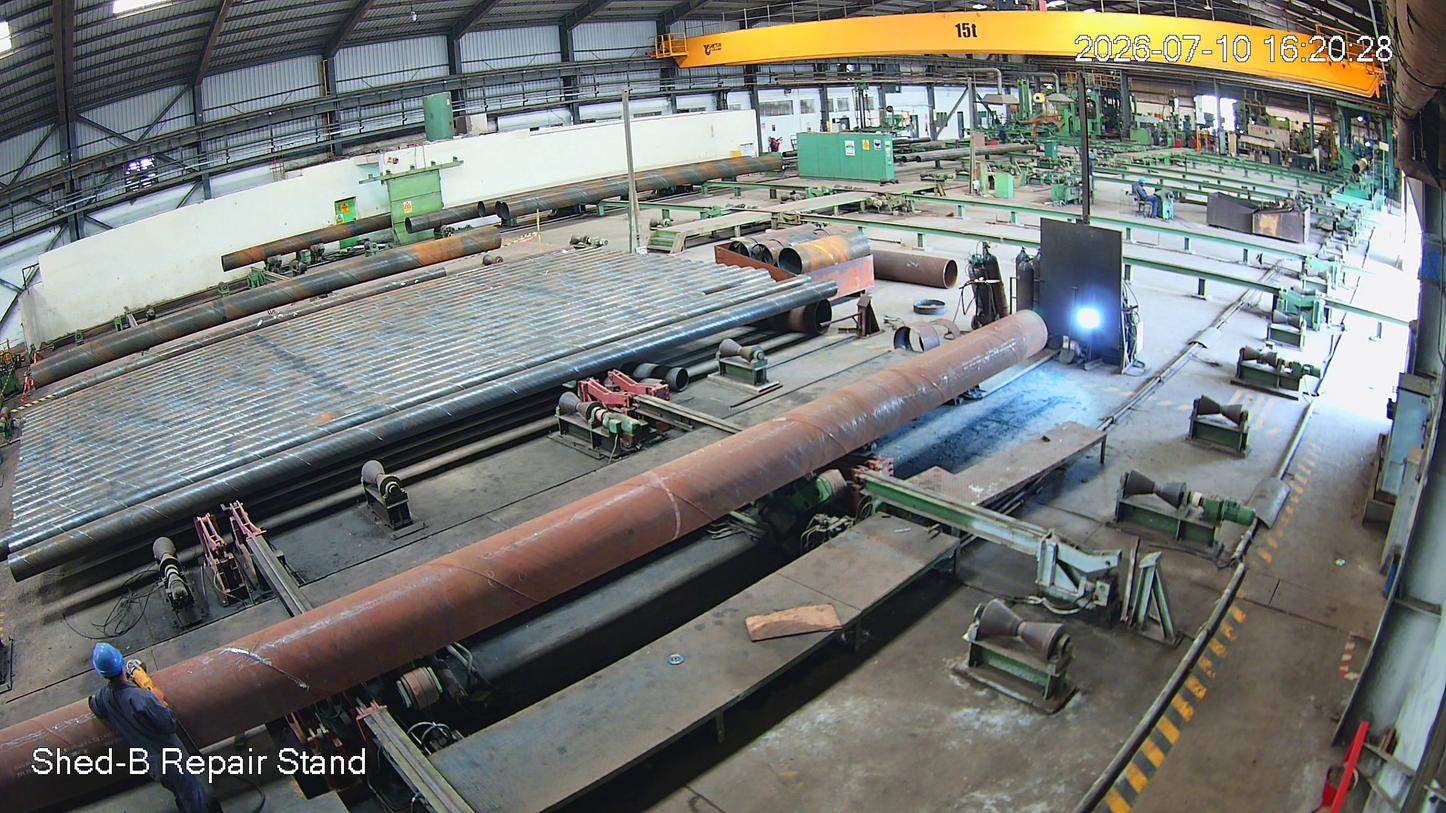Helmet: (88, 635, 137, 691)
Person: (86, 644, 204, 813)
